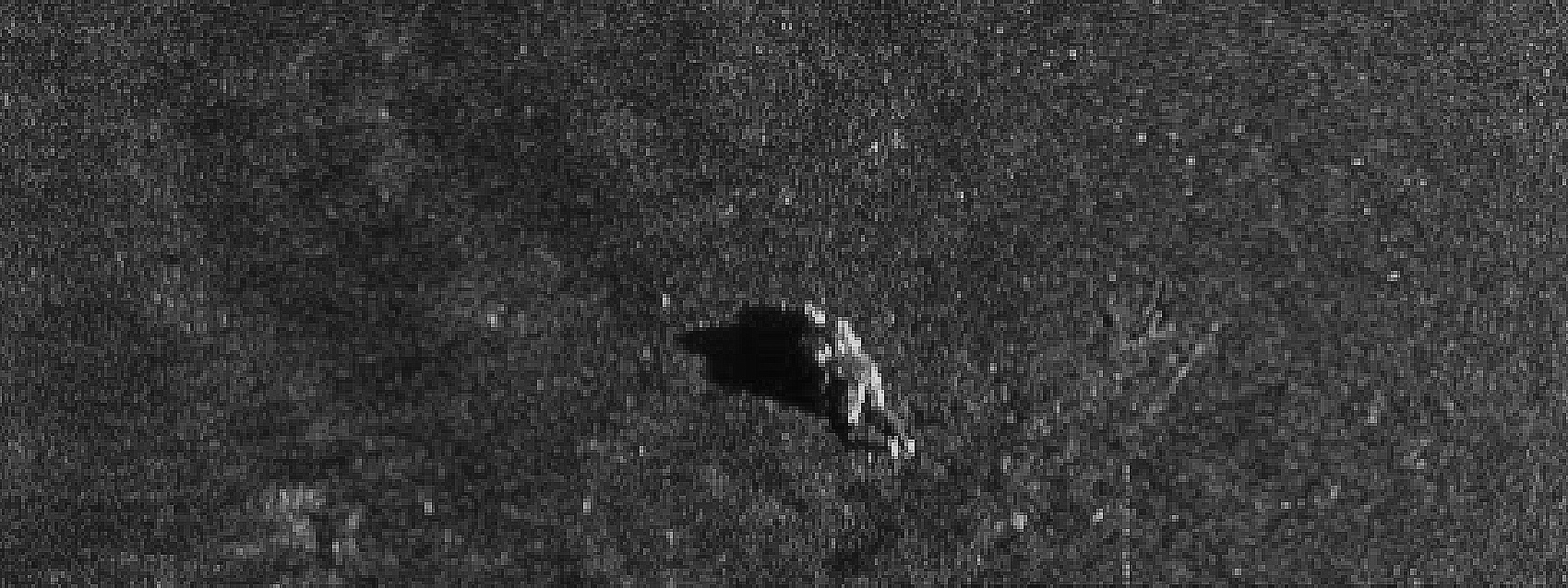man: (793, 296, 922, 462)
